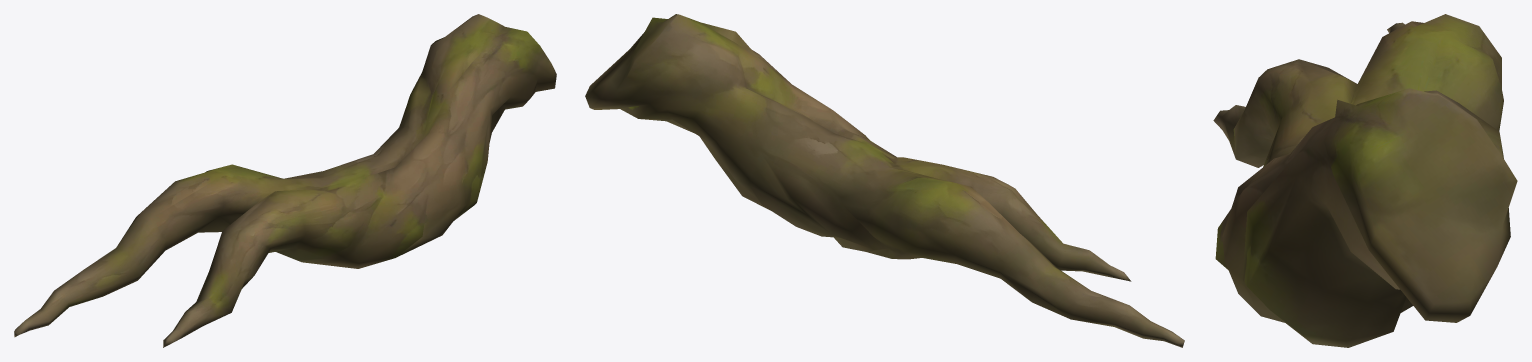
File: SM_FR_RootCurved.fbx
3 renders of one model, left to right at view 1: azimuth 30°, elevation 25°; view 2: azimuth 150°, elevation 25°; view 3: azimuth 270°, elevation 25°, orthographic. The views are drawn at different scales.
Parts seen in each view (by area): view 1: SM_FR_RootCurved; view 2: SM_FR_RootCurved; view 3: SM_FR_RootCurved.
Part boxes in pixels (x1,y1,x2,y2): SM_FR_RootCurved: (14, 14, 556, 347); SM_FR_RootCurved: (585, 14, 1184, 347); SM_FR_RootCurved: (1213, 14, 1517, 347).
Size of the model in its own units: 3 by 1.05 by 0.7926.
1 material, 1 textured.
